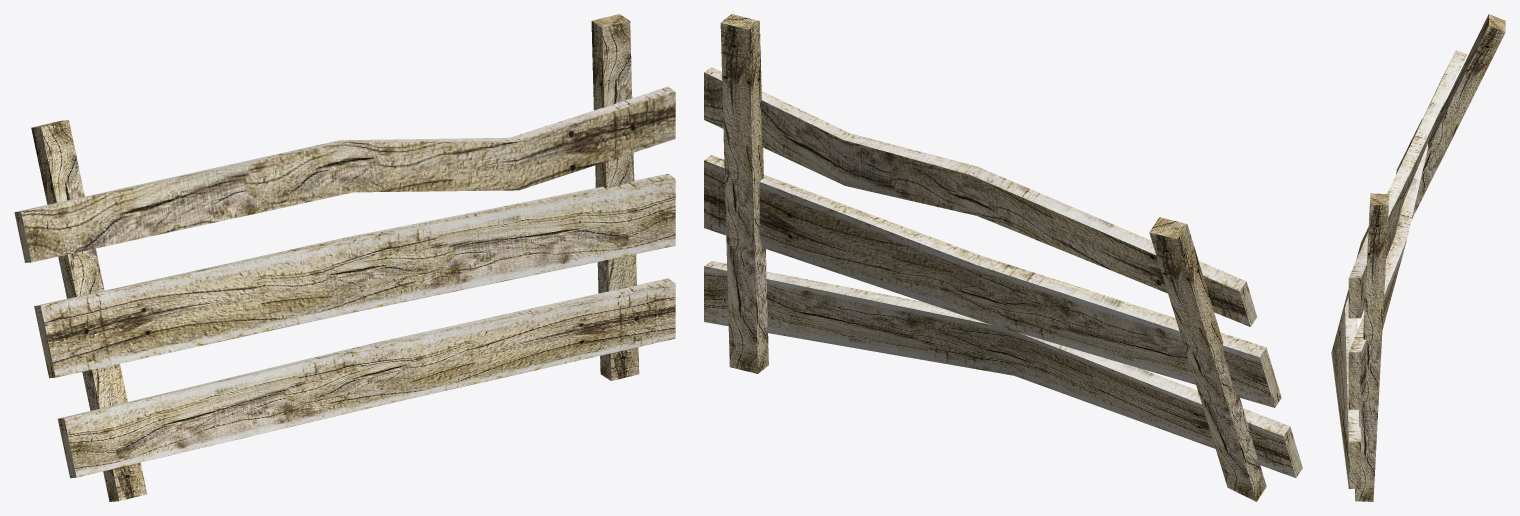
Rendered from fence_02.fbx.
3 renders of one model, left to right at view 1: azimuth 30°, elevation 25°; view 2: azimuth 150°, elevation 25°; view 3: azimuth 270°, elevation 25°, orthographic. The views are drawn at different scales.
Visible parts, largest first — view 1: fence_02; view 2: fence_02; view 3: fence_02.
Part boxes in pixels (box(x1,y1,x2,y2)): fence_02: box(14, 14, 675, 501); fence_02: box(704, 14, 1302, 501); fence_02: box(1331, 14, 1505, 501).
Size of the model in its own units: 2.88 by 1.65 by 0.8597.
